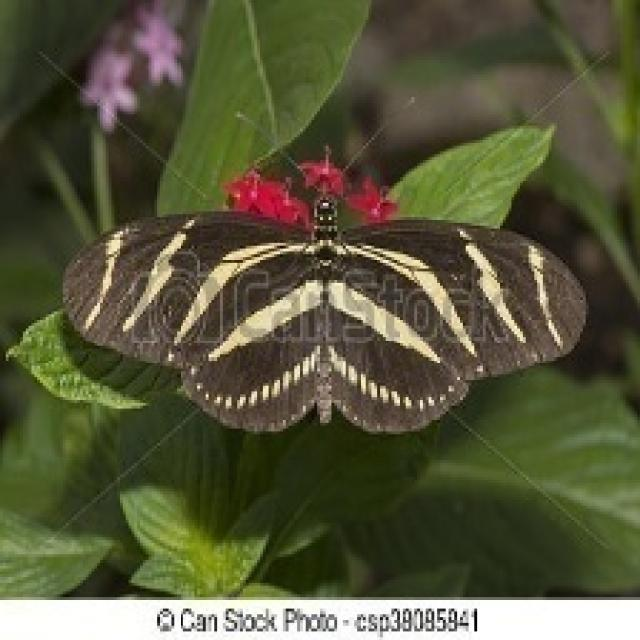butterfly: (57, 120, 589, 434)
